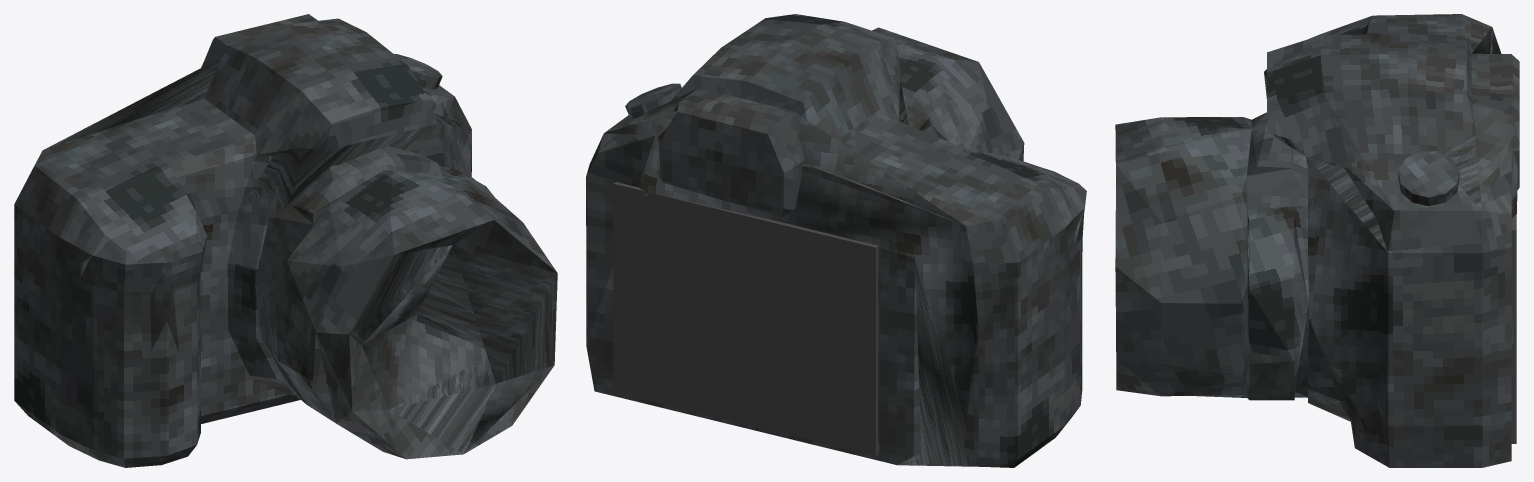
File: item_disposable_camera.glb
3 views of the same model, side by side, from view 1: azimuth 30°, elevation 25°; view 2: azimuth 150°, elevation 25°; view 3: azimuth 270°, elevation 25° (orthographic). The views are drawn at different scales.
Parts seen in each view (by area): view 1: CameraItem; view 2: CameraItem, CameraItem_Screen; view 3: CameraItem, CameraItem_Screen.
Part boxes in pixels (bbox=[...]): CameraItem: bbox=[14, 14, 557, 467]; CameraItem: bbox=[586, 14, 1086, 467]; CameraItem_Screen: bbox=[613, 182, 878, 455]; CameraItem: bbox=[1115, 14, 1519, 467]; CameraItem_Screen: bbox=[1511, 214, 1516, 443].
Bounding box in the file's own units: 0.1723 × 0.1301 × 0.1396.
Materials: 2 (1 with a texture image).
